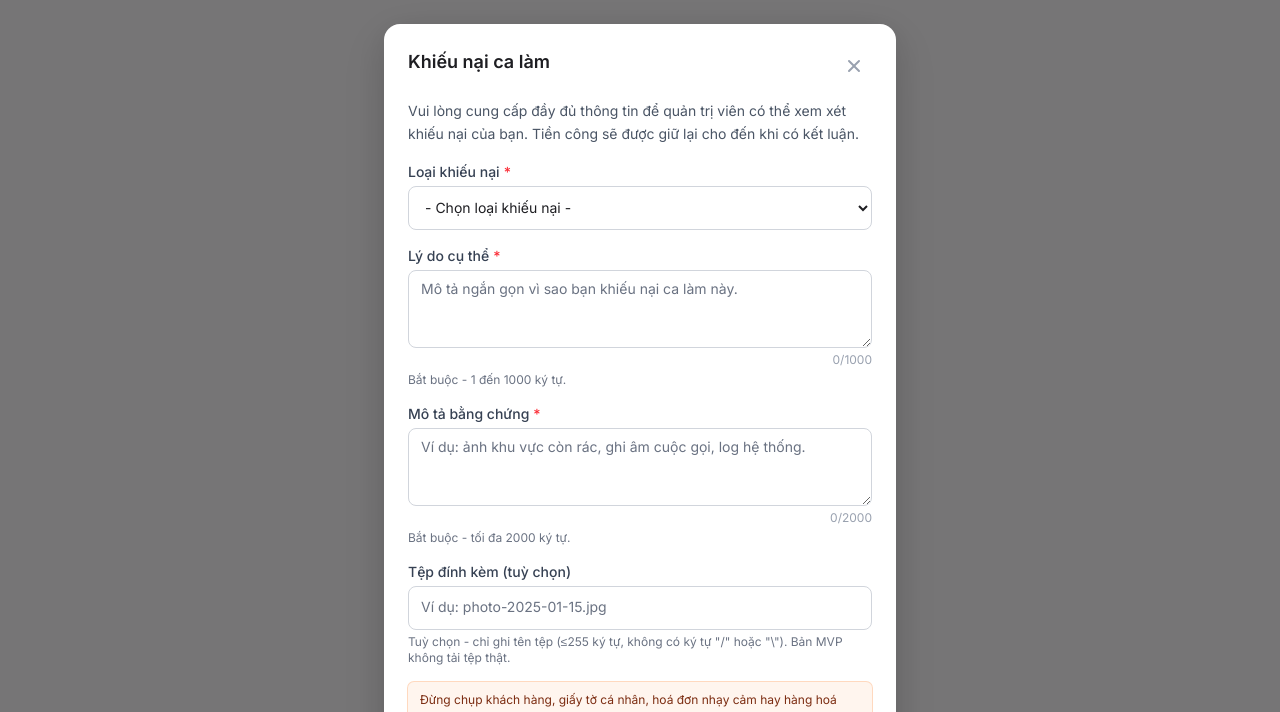
Test: <DisputeDialog/> — Phase 10C employer side › blocks an invalid filename with a clear error
The image size is (1280, 712).
Select "Người lao động không tới" in the dropdown labelled "Loại khiếu nại*" at [640, 208], box [408, 186, 872, 230]
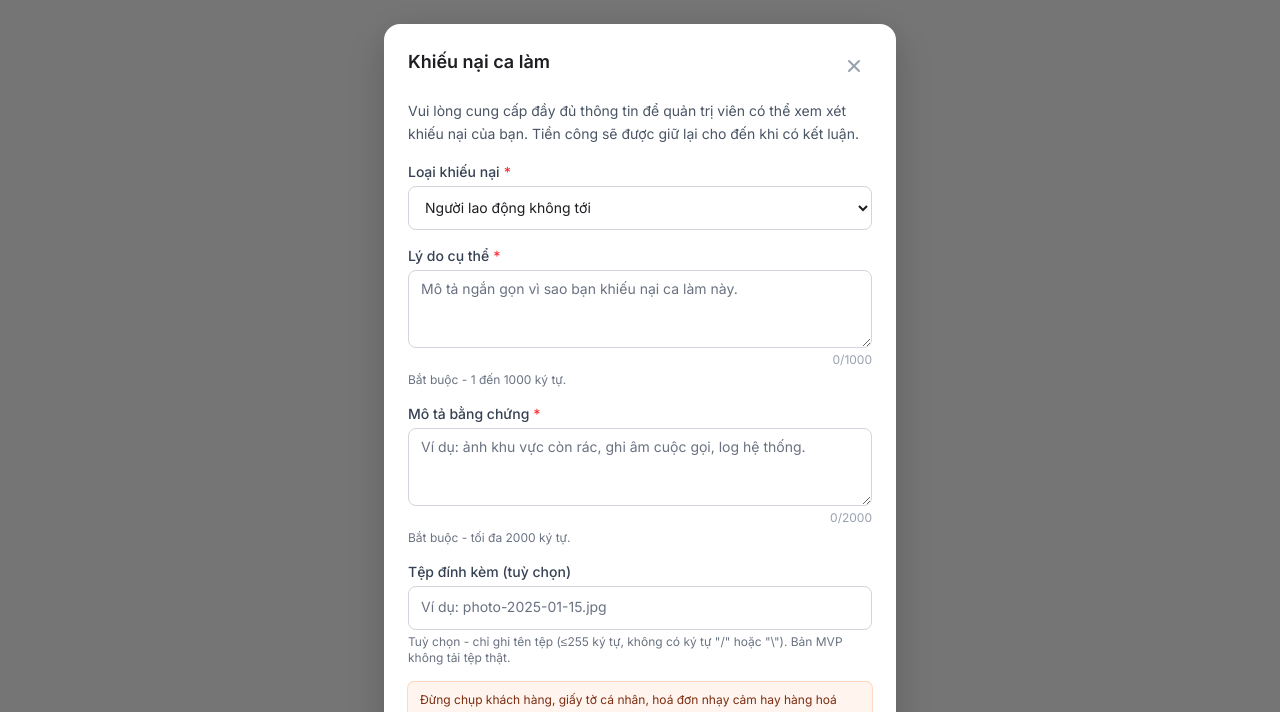
Type "reason" into the text box labelled "Lý do cụ thể*" at [640, 308], box [408, 270, 872, 348]
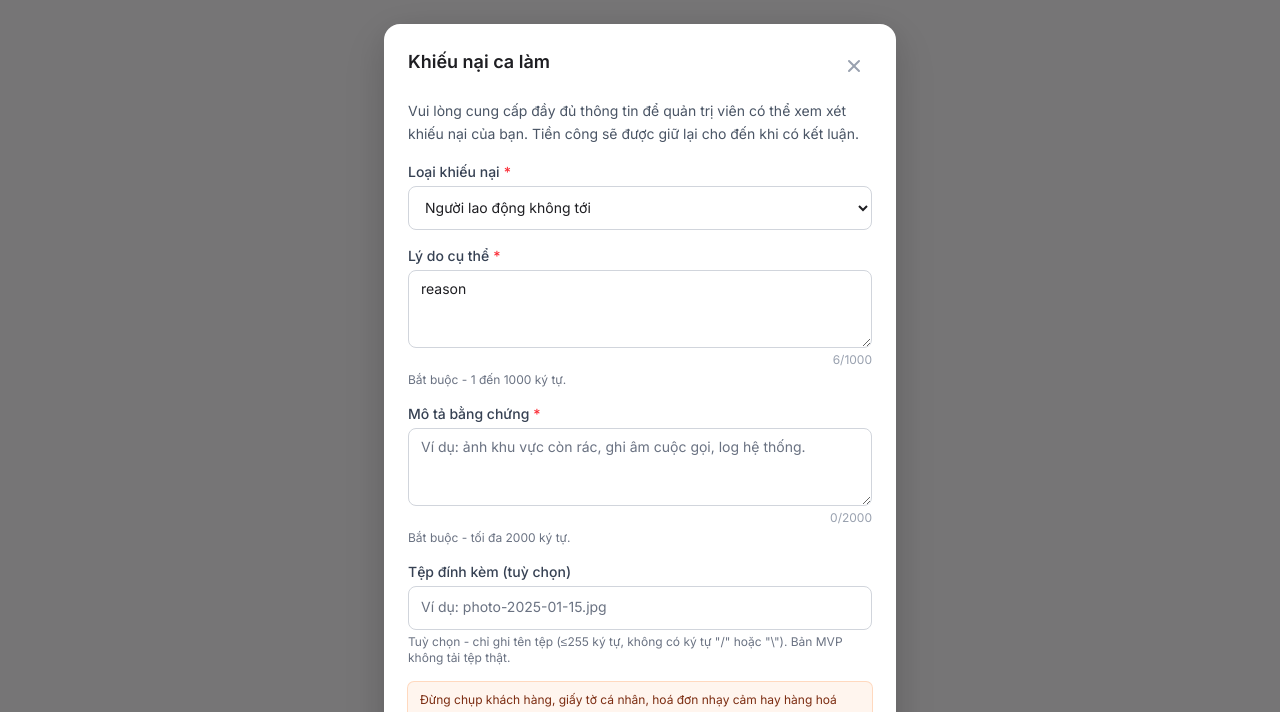
Type "desc" into the text box labelled "Mô tả bằng chứng*" at [640, 466], box [408, 428, 872, 506]
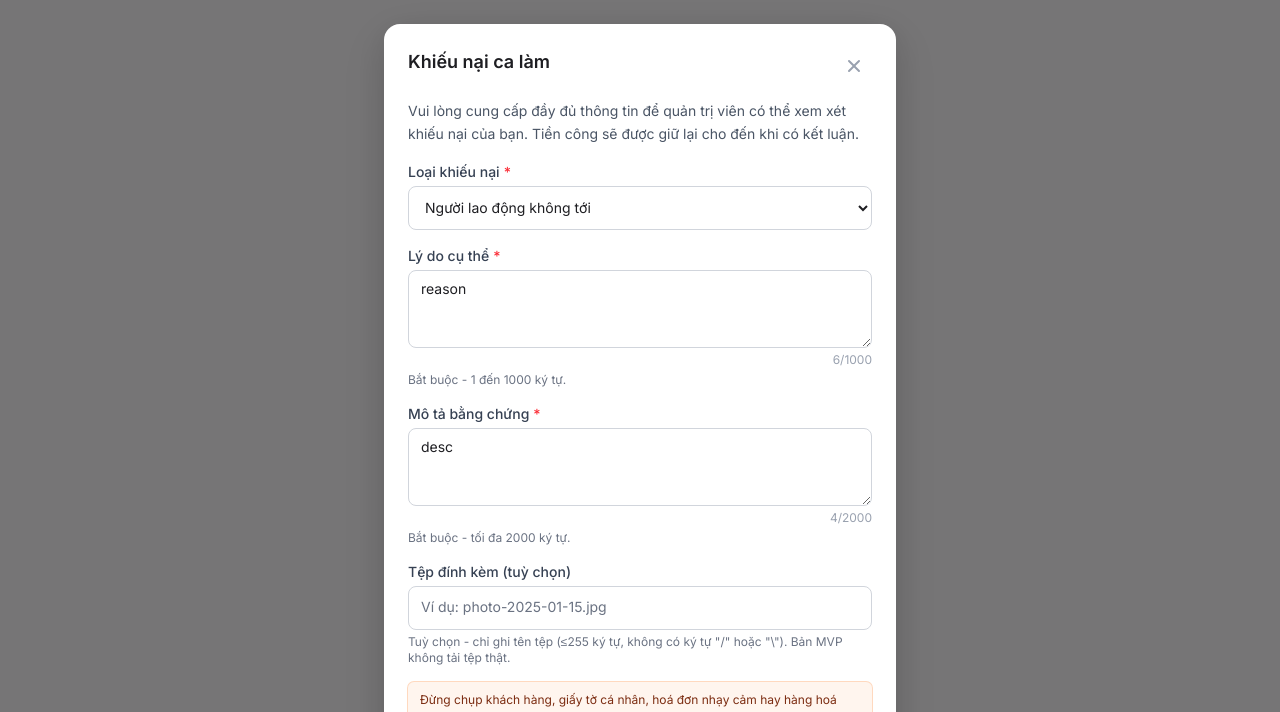
Type "../etc/passwd" into the field labelled "Tệp đính kèm (tuỳ chọn)" at [640, 608], box [408, 586, 872, 630]
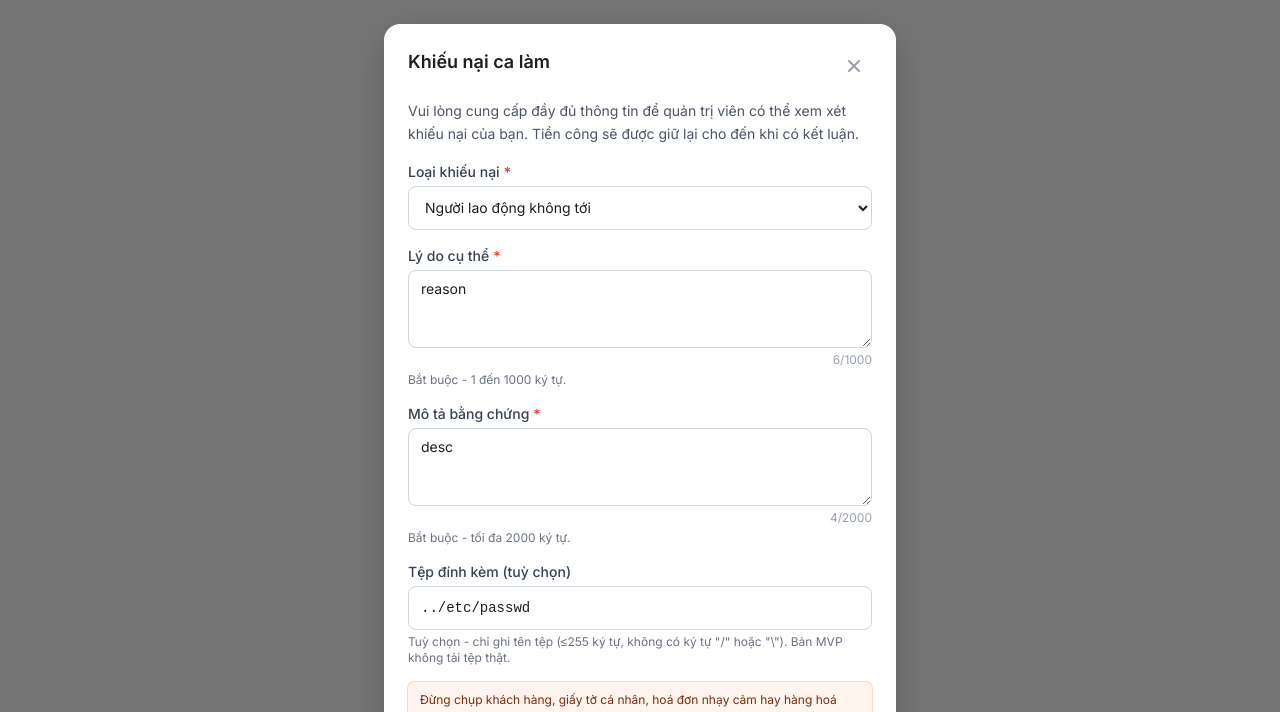
Leave the field labelled "Tệp đính kèm (tuỳ chọn)", box [408, 586, 872, 630]
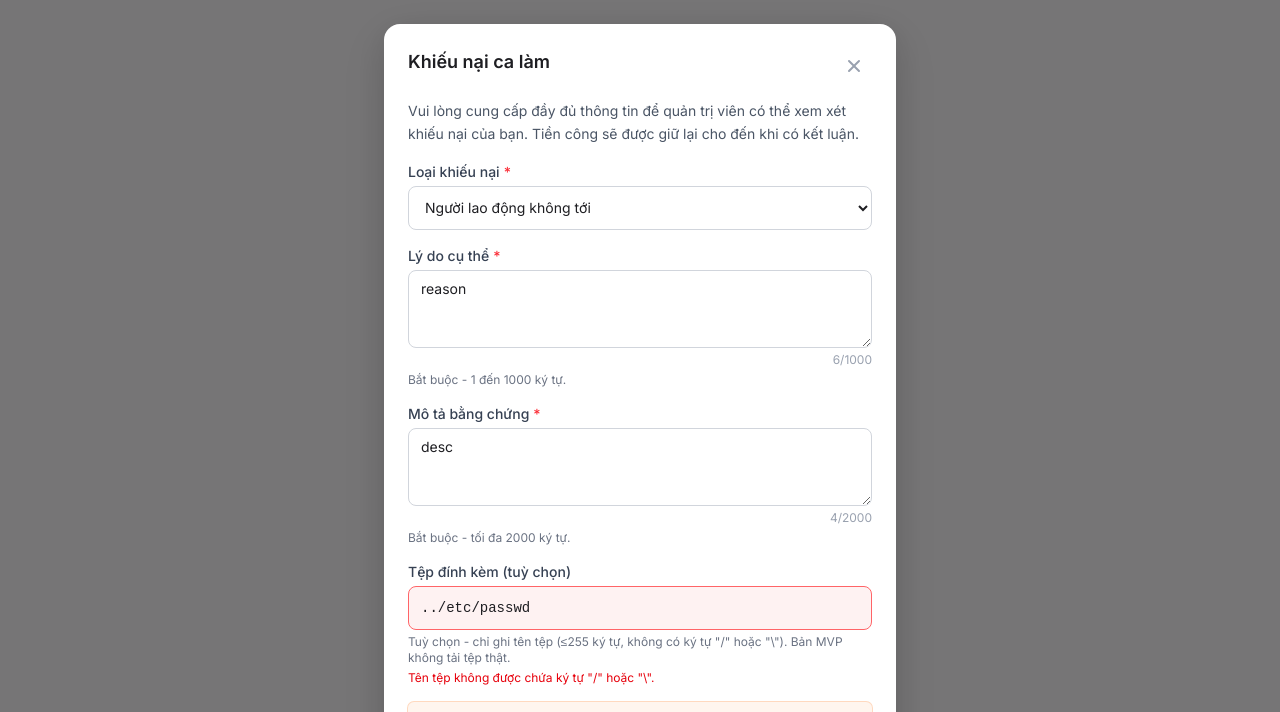
Now the text "Tên tệp không được chứa ký tự \"/\" hoặc \"\\\"." is shown, box [408, 670, 654, 684]
